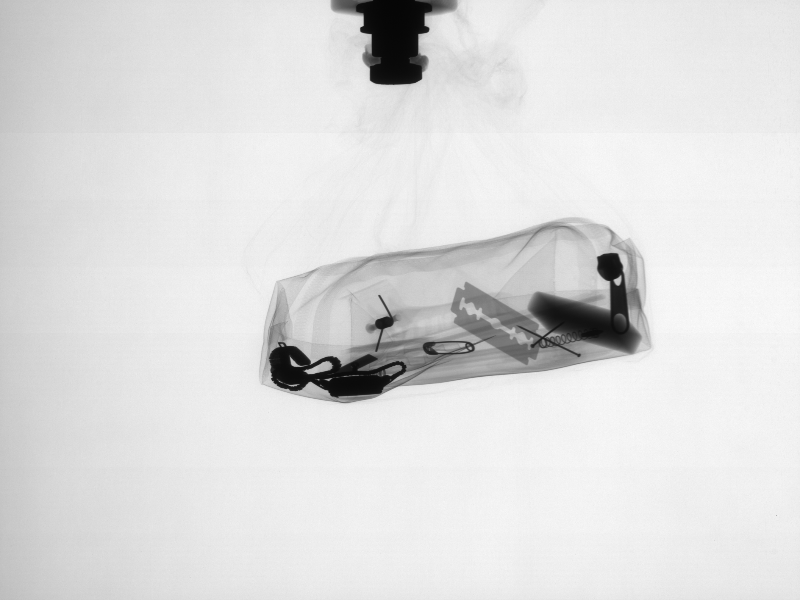bobby pin: (425, 340, 479, 357)
needle: (520, 324, 585, 361)
rasor blade: (455, 280, 546, 371)
rope: (270, 343, 410, 401)
string: (542, 334, 605, 345)
